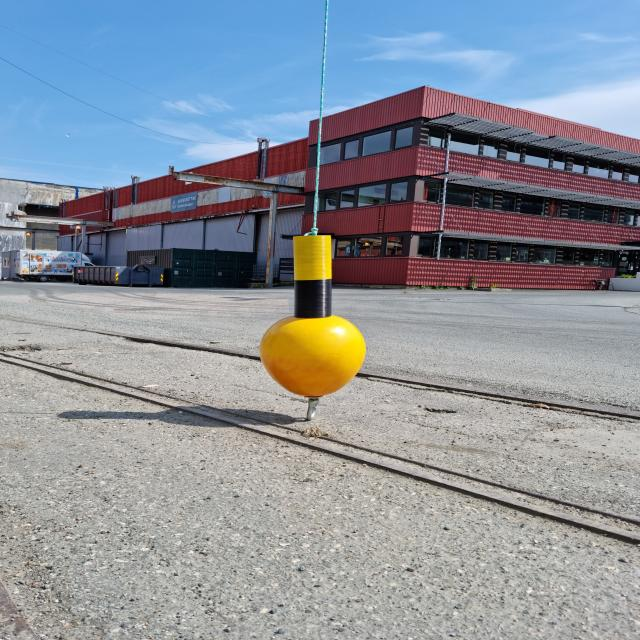west: (260, 236, 366, 397)
